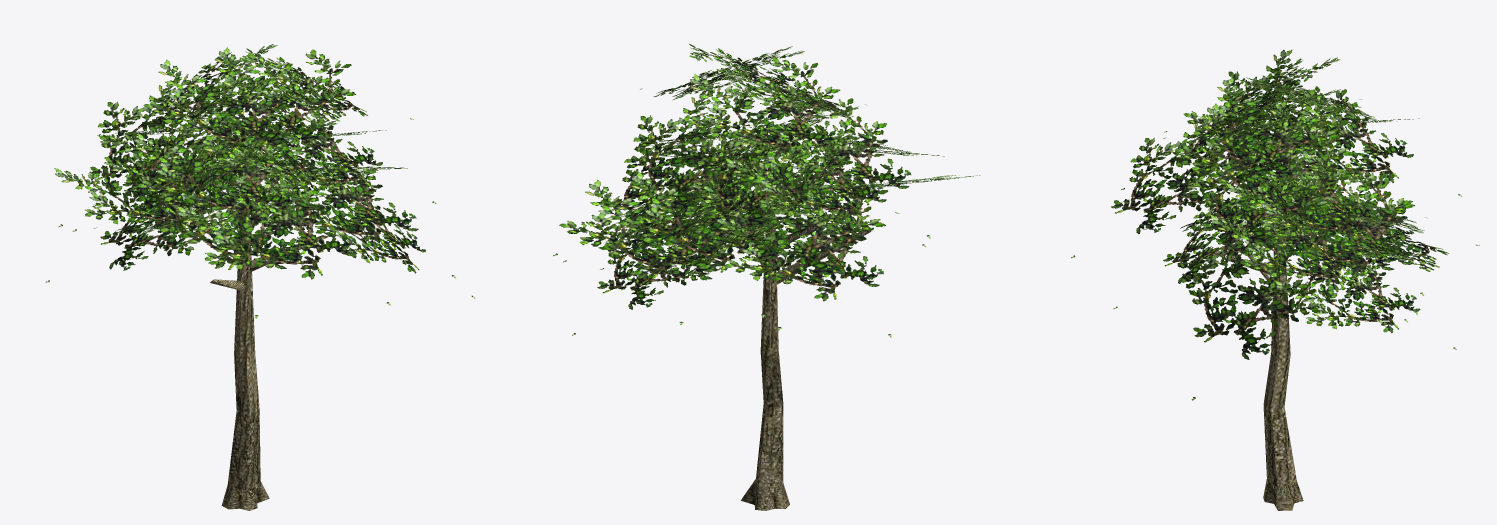
File: tree_tropic_1.glb
3 views of the same model, side by side, from view 1: azimuth 30°, elevation 25°; view 2: azimuth 150°, elevation 25°; view 3: azimuth 270°, elevation 25° (orthographic). The views are drawn at different scales.
Parts seen in each view (by area): view 1: tree_tropic_1; view 2: tree_tropic_1; view 3: tree_tropic_1.
Part boxes in pixels (<box>): tree_tropic_1: <box>45,44,475,510</box>; tree_tropic_1: <box>553,44,980,510</box>; tree_tropic_1: <box>1071,49,1479,510</box>.
Bounding box in the file's own units: 11.99 × 11.22 × 9.95.
Materials: 2 (2 with a texture image).
